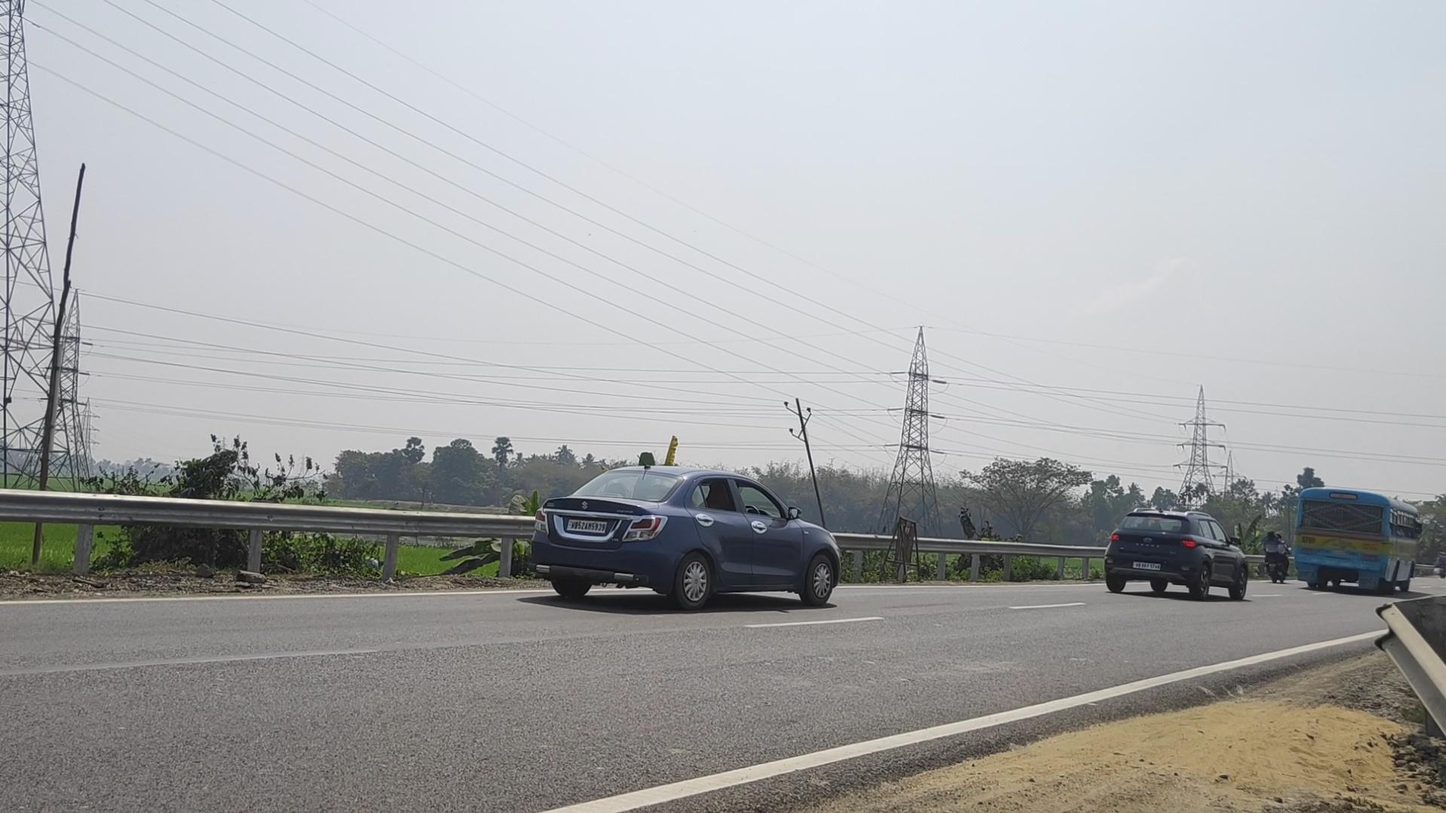Bus: (1292, 487, 1421, 595)
bike: (1263, 529, 1292, 584)
car: (529, 464, 841, 613), (1103, 507, 1248, 602)
